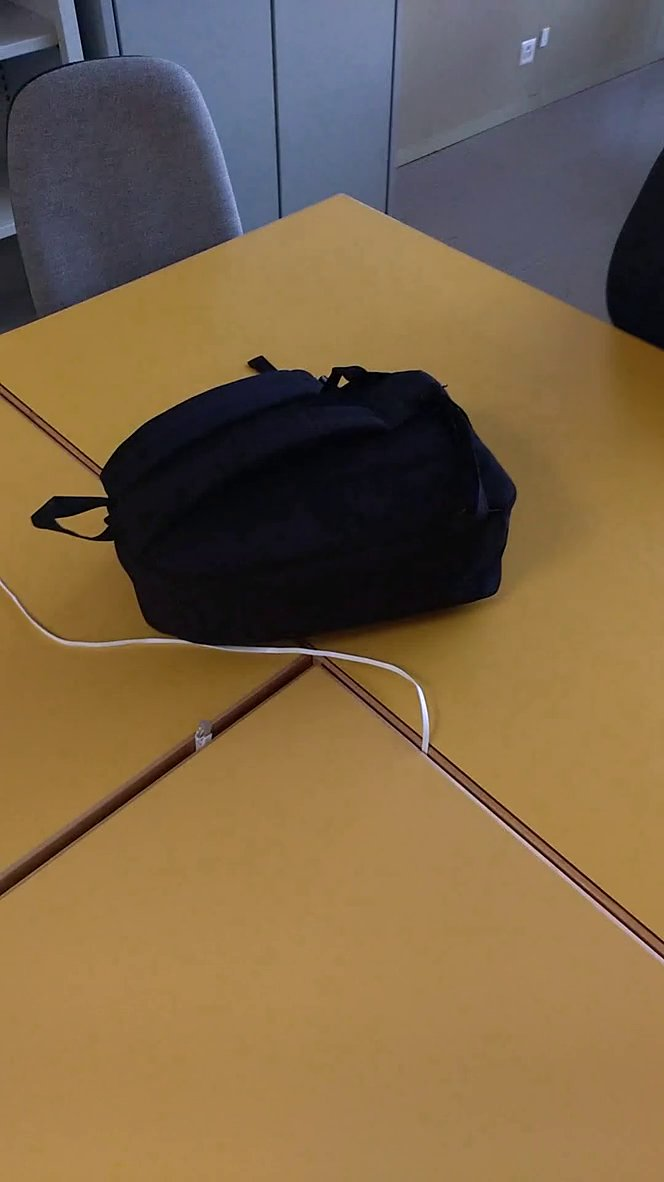bag: (20, 346, 535, 663)
chair: (4, 40, 259, 333)
